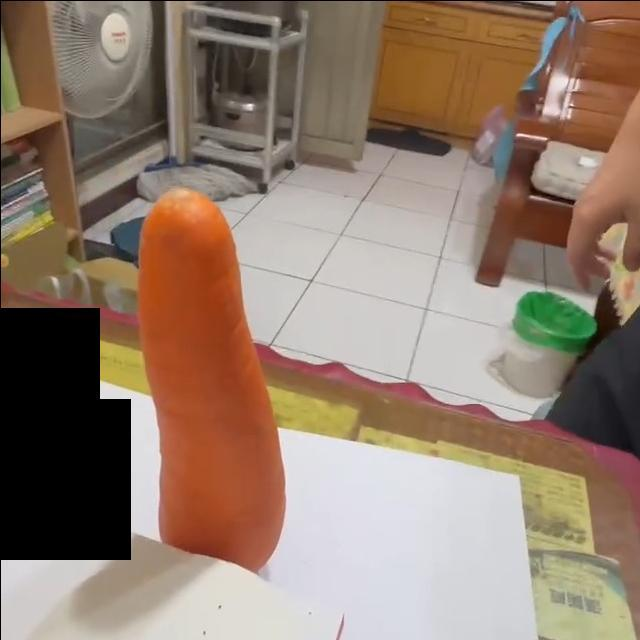carrot: (136, 187, 290, 574)
